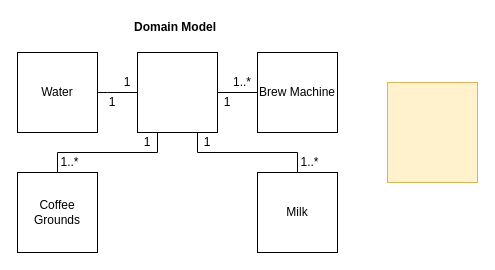
Some shapes in this 495 by 270 pixel diagram are drawn without their labels. Each missing label, with the centre of its shape:
"Cardinality 1 2 8 1..5 0..8 * 1..* 0..* *" goes at point 432,132.
"Sleepy Individual" goes at point 177,92.
